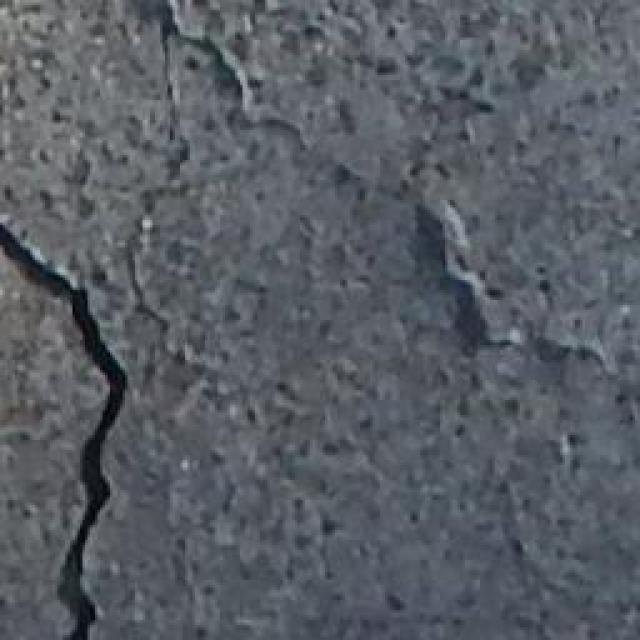concrete-crack: (145, 6, 640, 395), (0, 216, 133, 640)
